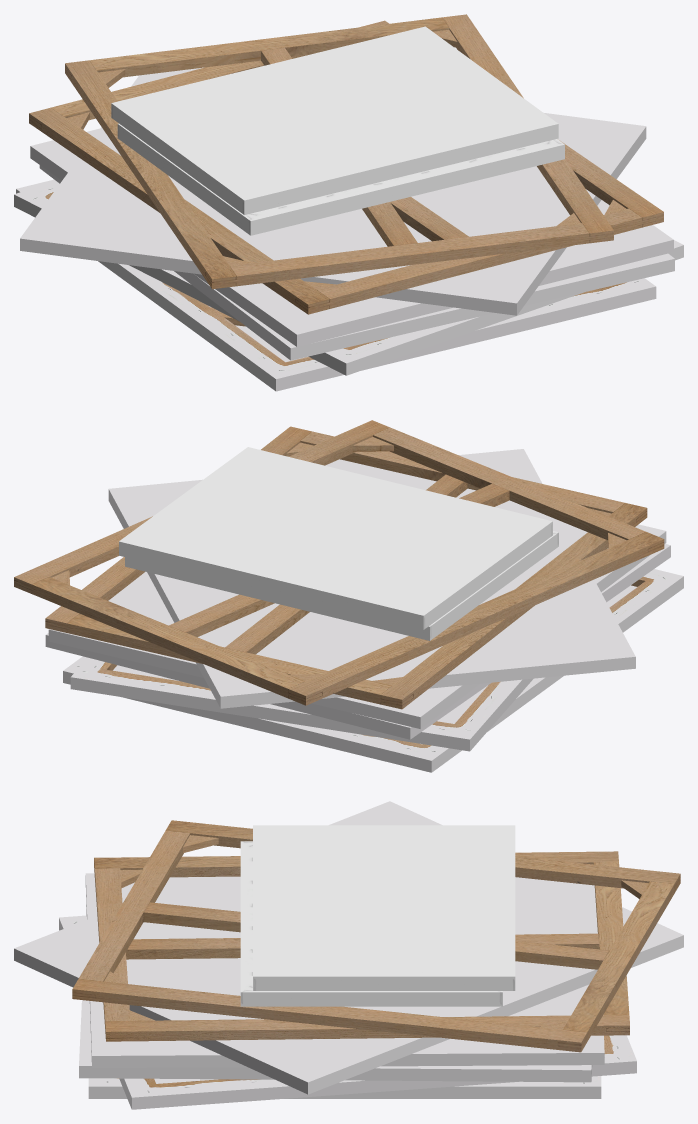
The model's file is SM_MERGED_canvas4.fbx.
3 views of the same model, one above another, from view 1: azimuth 30°, elevation 25°; view 2: azimuth 150°, elevation 25°; view 3: azimuth 270°, elevation 25° (orthographic). The views are drawn at different scales.
Visible parts, largest first — view 1: SM_MERGED_canvas4; view 2: SM_MERGED_canvas4; view 3: SM_MERGED_canvas4.
Part boxes in pixels (<box>): SM_MERGED_canvas4: <box>14,14,683,391</box>; SM_MERGED_canvas4: <box>14,420,683,772</box>; SM_MERGED_canvas4: <box>14,801,683,1109</box>.
Bounding box in the file's own units: 1.24 × 0.2368 × 1.24.
